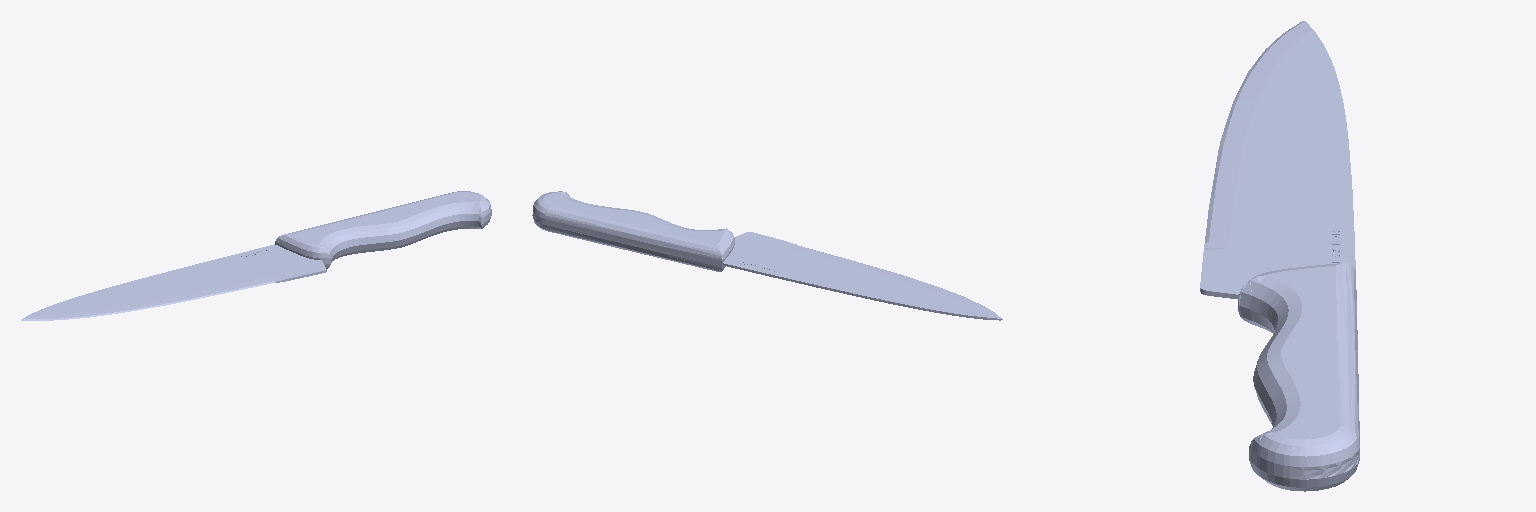
robot.urdf — knife_description:
<robot
  name="knife_description">
  <link name="sensortile_imu"/>
  <link name="base_link_1"/>
  <link name="base_link_2"/>
  <link
    name="knife_link">
    <inertial>
      <origin
        xyz="0 0 0"
        rpy="0 0 0" />
      <mass
        value="0.47626" />
      <inertia
        ixx="0"
        ixy="0"
        ixz="0"
        iyy="0"
        iyz="0"
        izz="0" />
    </inertial>
    <visual>
      <origin
        xyz="0 0 0"
        rpy="0 0 0" />
      <geometry>
        <mesh
          filename="package://knife/meshes/knife.stl" />
      </geometry>
      <material
        name="">
        <color
          rgba="0.79216 0.81961 0.93333 1" />
      </material>
    </visual>
    <collision>
      <origin
        xyz="0 0 0"
        rpy="0 0 0" />
      <geometry>
        <mesh
          filename="package://knife/meshes/knife.stl" />
      </geometry>
    </collision>
  </link>
  <joint name="joint_knife_x" type="continuous">
    <origin xyz="0 0 0" rpy="0 0 0"/>
    <parent link="sensortile_imu"/>
    <child link="base_link_1"/>
    <axis xyz="1 0 0"/>
  </joint>
  <joint name="joint_knife_y" type="continuous">
    <origin xyz="0 0 0" rpy="0 0 0"/>
    <parent link="base_link_1"/>
    <child link="base_link_2"/>
    <axis xyz="0 1 0"/>
  </joint>
  <joint name="joint_knife_z" type="continuous">
    <origin xyz="0 0 0" rpy="0 0 0"/>
    <parent link="base_link_2"/>
    <child link="knife_link"/>
    <axis xyz="0 0 1"/>
  </joint>
</robot>

--- Render facts (derived) ---
3 views of the same robot in one strip: view 1: azimuth 30°, elevation 25°; view 2: azimuth 150°, elevation 25°; view 3: azimuth 270°, elevation 25° (orthographic).
Model knife_description with 4 links and 3 joints (3 continuous), rooted at sensortile_imu, posed all joints at 0.
Links seen in each view (by area): view 1: knife_link; view 2: knife_link; view 3: knife_link.
Link boxes in pixels (x1=…): knife_link: x1=21, y1=191, x2=491, y2=320; knife_link: x1=532, y1=191, x2=1002, y2=320; knife_link: x1=1200, y1=21, x2=1359, y2=491.
Size in the robot's own frame: 0.1571 by 0.0235 by 0.0081 metres.
1 mesh visuals loaded from 1 distinct referenced files (1 binary STL).